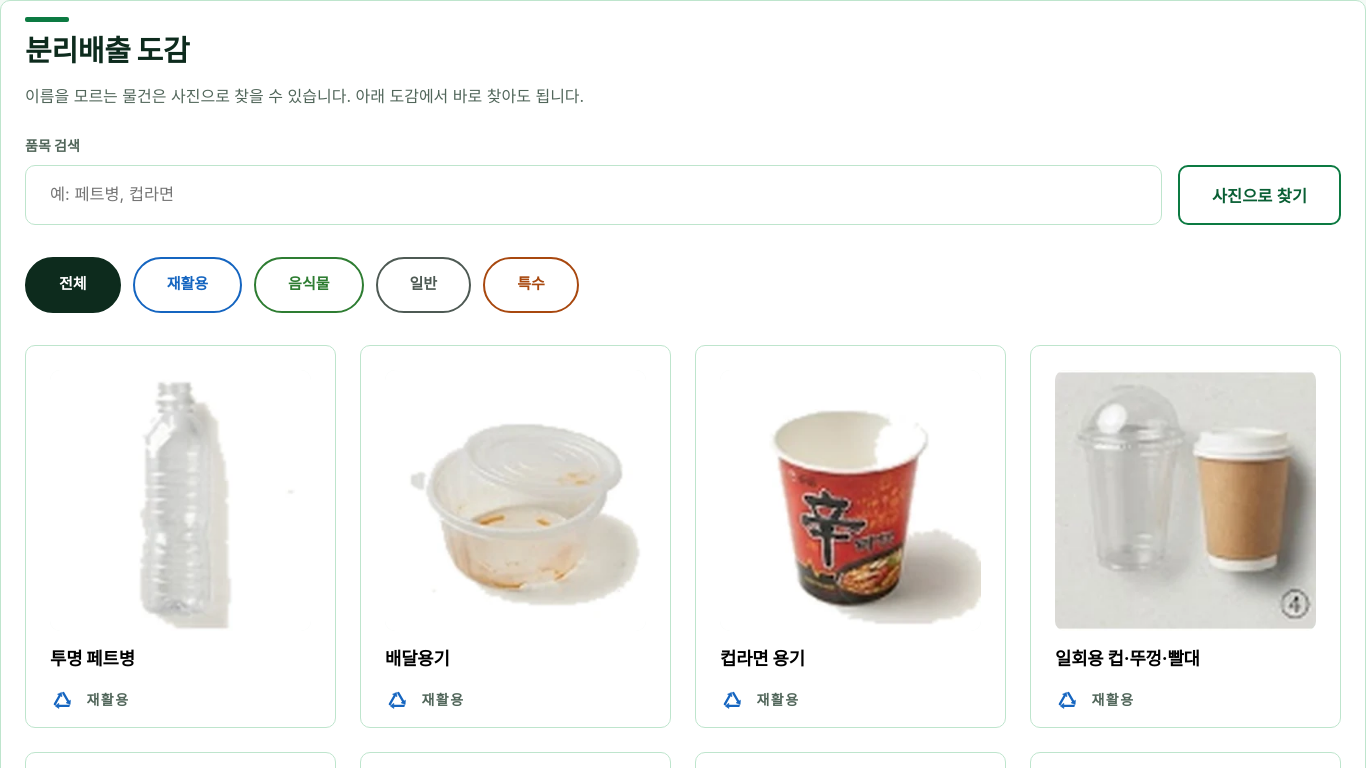
Test case: CatalogSection › opens the detail dialog when a card is chosen
Click the button "투명 페트병 재활용": (180, 537) [25,345,336,728]
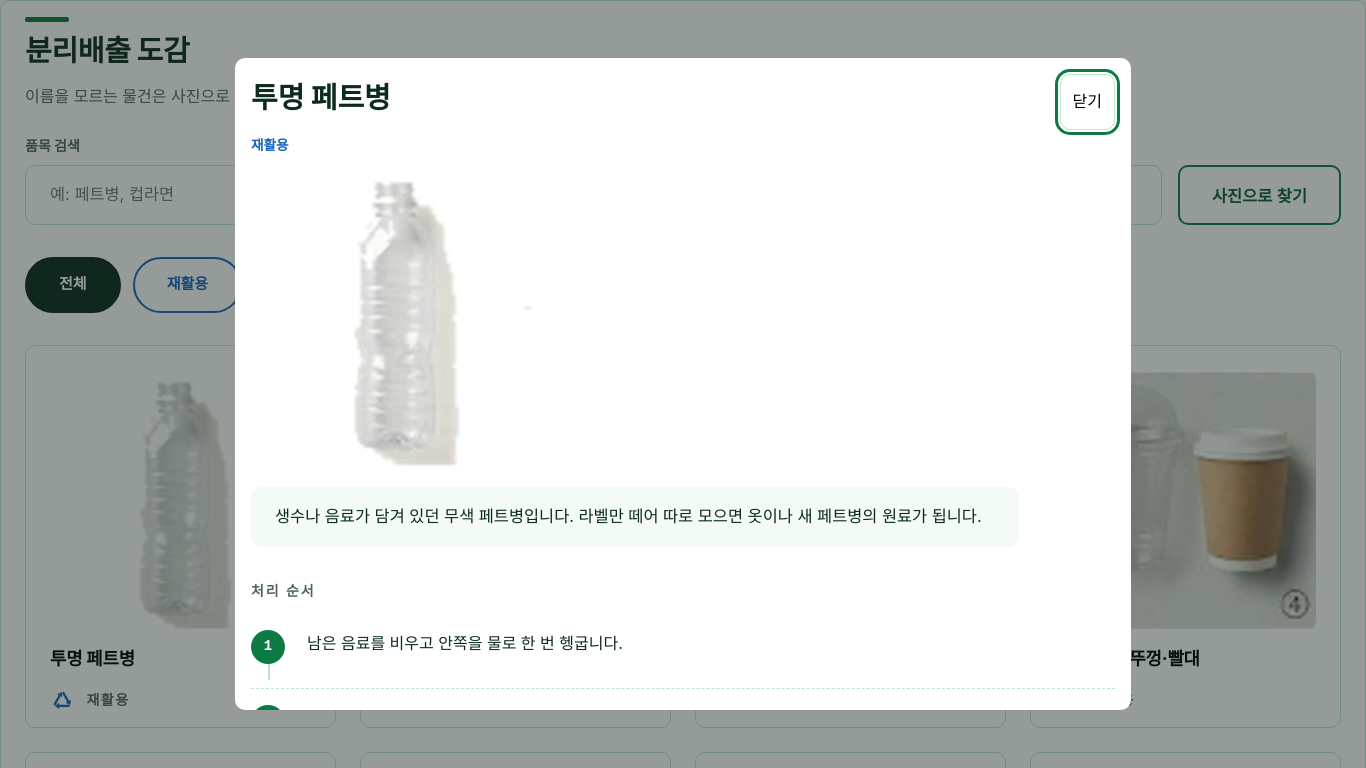
expect the heading "투명 페트병" is shown: met, box [251,74,391,121]
expect the heading "처리 순서" is shown: met, box [251,582,316,599]
